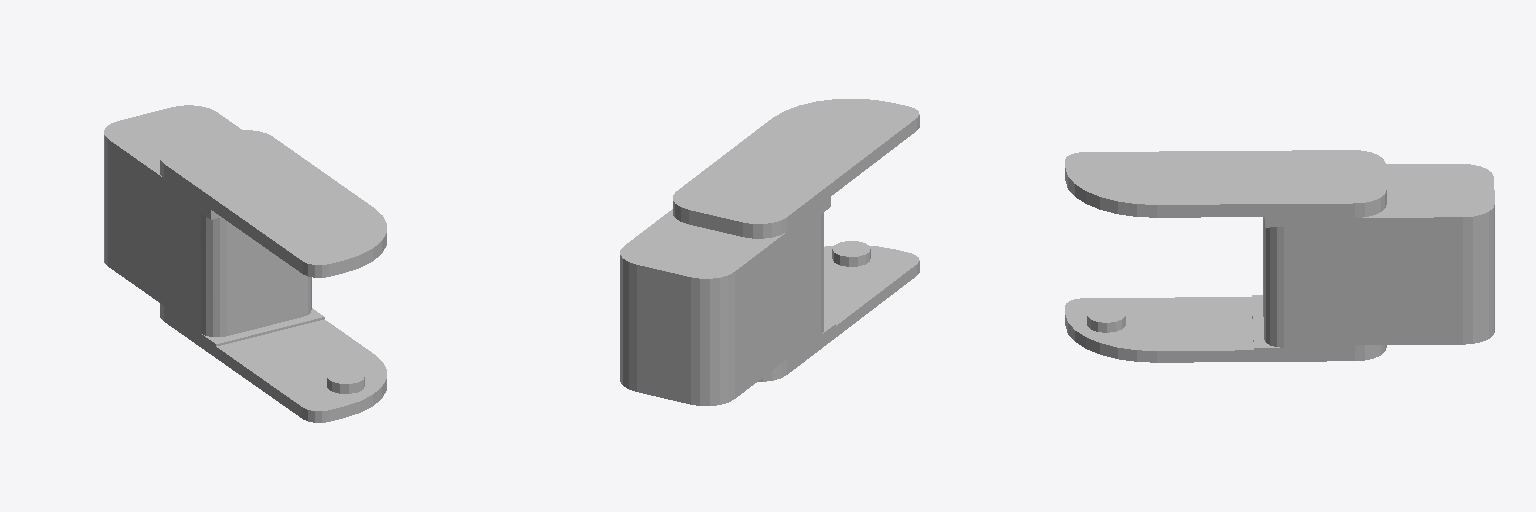
3 renders of one model, left to right at view 1: azimuth 30°, elevation 25°; view 2: azimuth 150°, elevation 25°; view 3: azimuth 270°, elevation 25°, orthographic.
Parts seen in each view (by area): view 1: link_14_0; view 2: link_14_0; view 3: link_14_0.
Boxes of the visible parts, x1=… form: link_14_0: x1=104, y1=105, x2=386, y2=422; link_14_0: x1=620, y1=99, x2=919, y2=405; link_14_0: x1=1065, y1=150, x2=1494, y2=362.
Size of the model in its own units: 0.0205 by 0.027 by 0.0667.